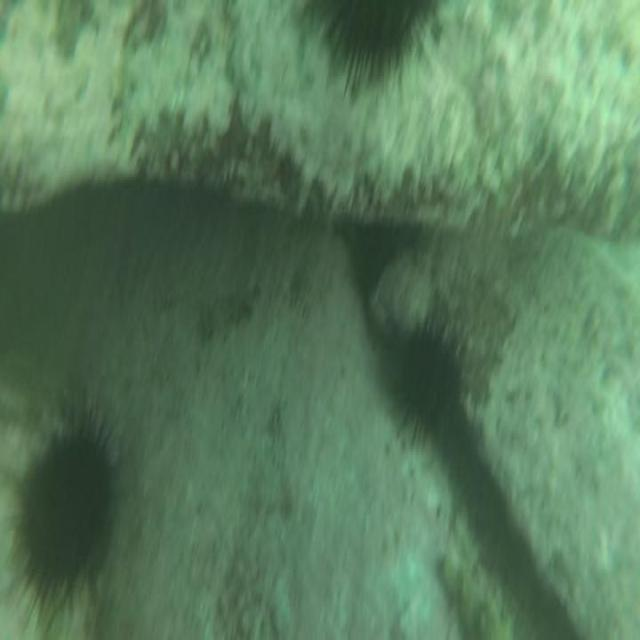echinus: (0, 382, 122, 636), (295, 0, 446, 103), (385, 306, 465, 456)
holothurian: (432, 547, 518, 640)
